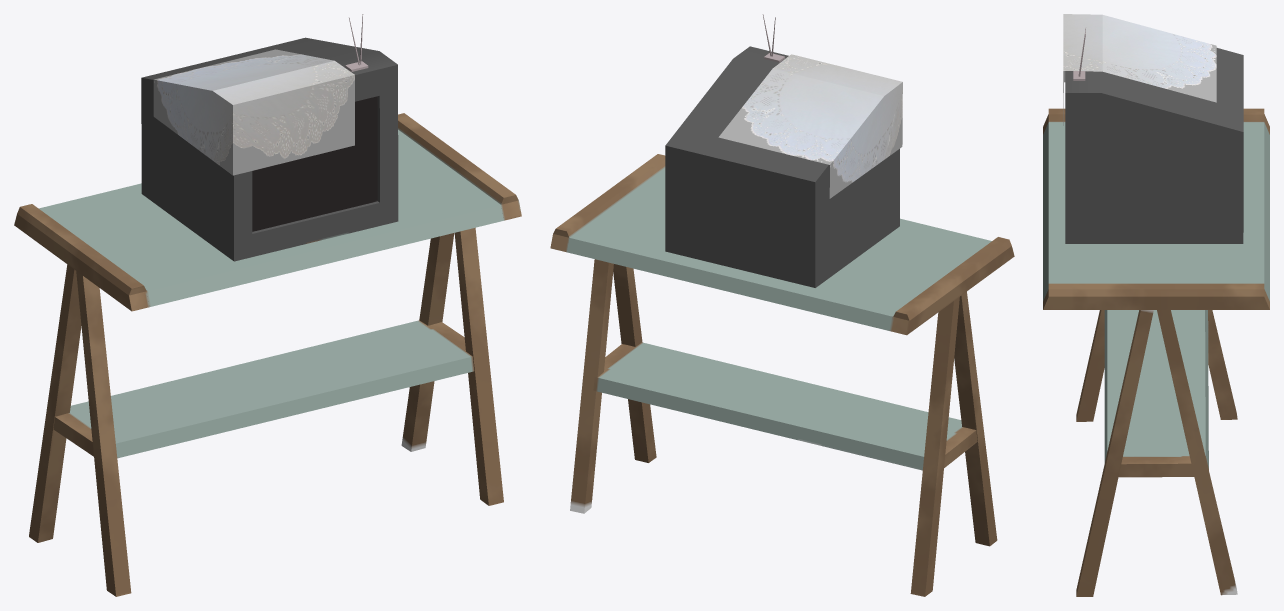
Rendered from Tv_with_Table_(Doily_export).fbx.
3 renders of one model, left to right at view 1: azimuth 30°, elevation 25°; view 2: azimuth 150°, elevation 25°; view 3: azimuth 270°, elevation 25°, orthographic. The views are drawn at different scales.
Parts seen in each view (by area): view 1: Tv_with_table, Doily; view 2: Tv_with_table, Doily; view 3: Tv_with_table, Doily.
Part boxes in pixels (left/top/right/bottom): Tv_with_table: left=14, top=14, right=521, bottom=596; Doily: left=153, top=49, right=354, bottom=175; Tv_with_table: left=550, top=14, right=1014, bottom=596; Doily: left=718, top=54, right=902, bottom=198; Tv_with_table: left=1043, top=28, right=1269, bottom=596; Doily: left=1063, top=14, right=1216, bottom=125.
Size of the model in its own units: 97.14 by 122 by 50.49.
Materials: 2 (2 with a texture image).
